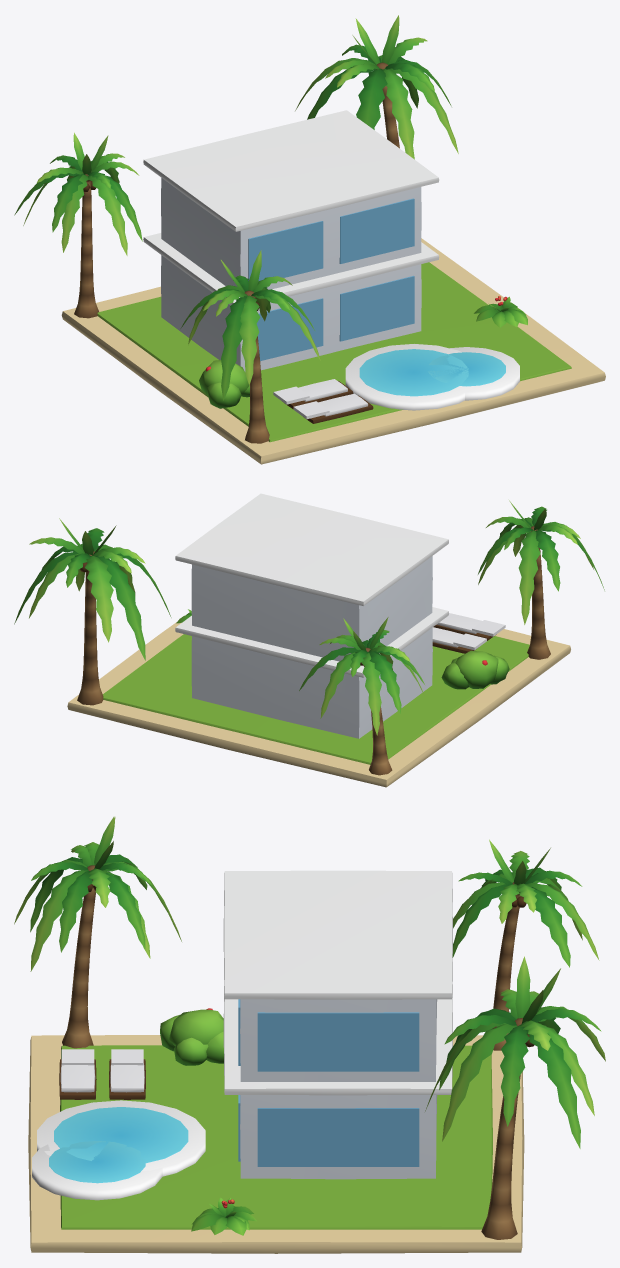
The model's file is LuxuryHotel_L2.obj.
3 views of the same model, one above another, from view 1: azimuth 30°, elevation 25°; view 2: azimuth 150°, elevation 25°; view 3: azimuth 270°, elevation 25° (orthographic). The views are drawn at different scales.
Parts seen in each view (by area): view 1: LuxuryHotel_L2; view 2: LuxuryHotel_L2; view 3: LuxuryHotel_L2.
Boxes of the visible parts, x1,y1,x2,y2 form: LuxuryHotel_L2: [14, 15, 605, 464]; LuxuryHotel_L2: [14, 493, 604, 787]; LuxuryHotel_L2: [14, 816, 605, 1253].
Bounding box in the file's own units: 4.85 × 2.38 × 4.77.
Materials: 1 (1 with a texture image).
